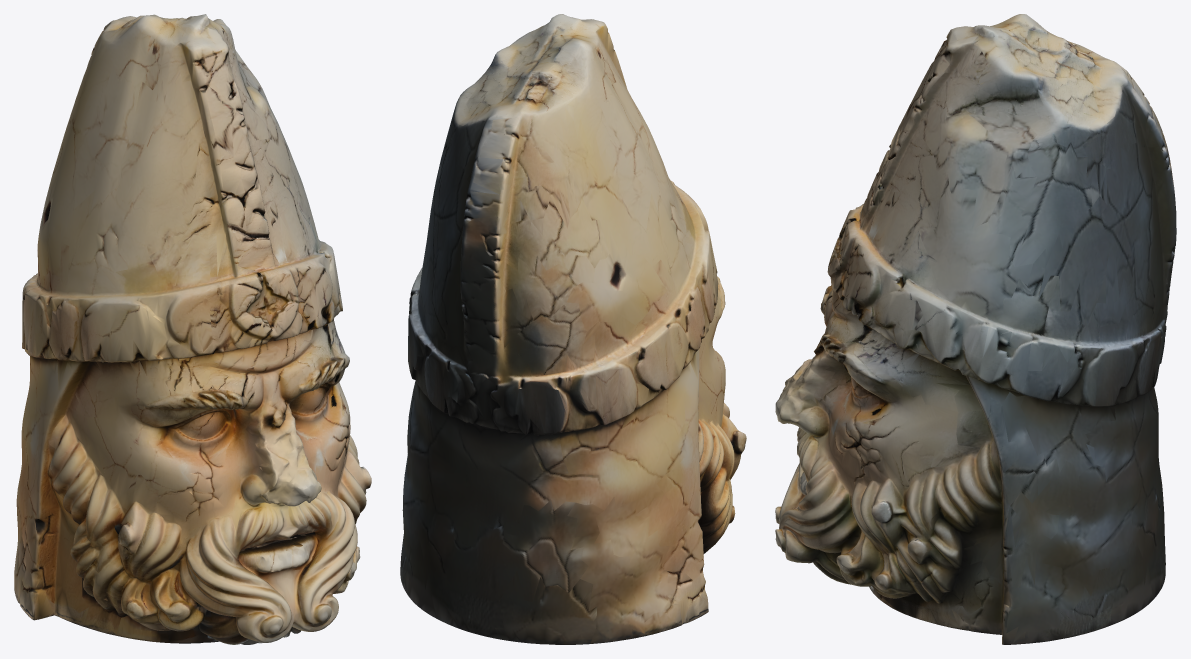
Rendered from nemrut.glb.
3 views of the same model, side by side, from view 1: azimuth 30°, elevation 25°; view 2: azimuth 150°, elevation 25°; view 3: azimuth 270°, elevation 25° (orthographic). The views are drawn at different scales.
Visible parts, largest first — view 1: Meshy_AI_nemrut_0225172012_texture; view 2: Meshy_AI_nemrut_0225172012_texture; view 3: Meshy_AI_nemrut_0225172012_texture.
Part boxes in pixels (x1=…): Meshy_AI_nemrut_0225172012_texture: x1=14, y1=14, x2=371, y2=644; Meshy_AI_nemrut_0225172012_texture: x1=400, y1=14, x2=746, y2=644; Meshy_AI_nemrut_0225172012_texture: x1=775, y1=14, x2=1176, y2=644.
Bounding box in the file's own units: 1.1 × 2 × 1.32.
1 material, 1 textured.
